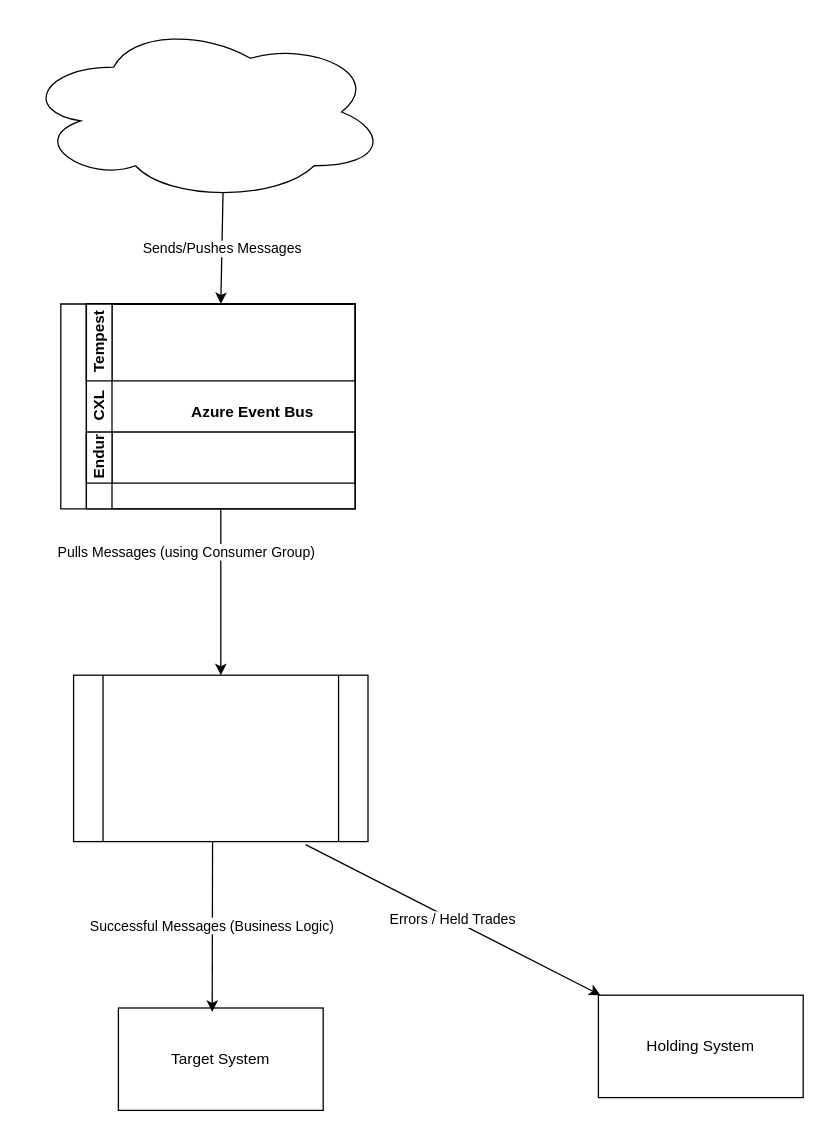
Image size: 826x1133. Some labels were removed from this diagram. Each missing label, with the box of its shape:
(Data Provider) - allocate to topic: (21, 21, 387, 202)
Message Processor (Application Service / Azure Function / Background Worker): (72, 674, 368, 842)
Topics: (60, 303, 355, 509)
